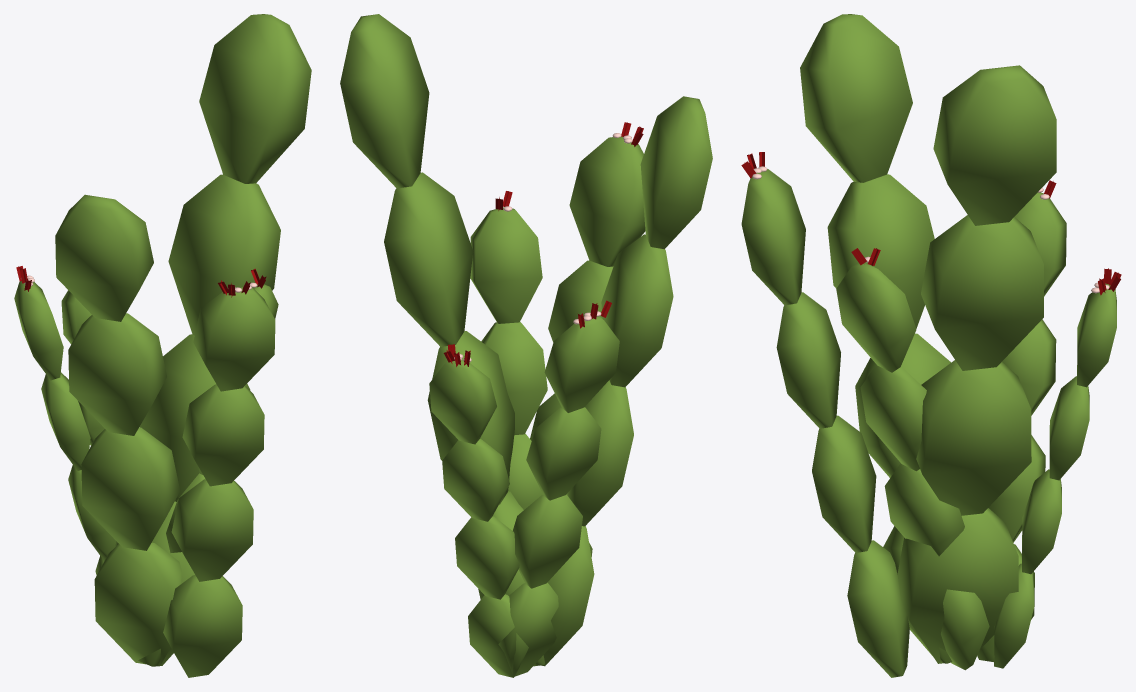
The model's file is CochinealCactus 1.fbx.
3 renders of one model, left to right at view 1: azimuth 30°, elevation 25°; view 2: azimuth 150°, elevation 25°; view 3: azimuth 270°, elevation 25°, orthographic. The views are drawn at different scales.
Visible parts, largest first — view 1: CochinealCactus; view 2: CochinealCactus; view 3: CochinealCactus.
Boxes of the visible parts, x1,y1,x2,y2 form: CochinealCactus: [14, 14, 311, 677]; CochinealCactus: [340, 14, 712, 677]; CochinealCactus: [741, 14, 1121, 677].
Bounding box in the file's own units: 20.73 × 40.11 × 20.63.
